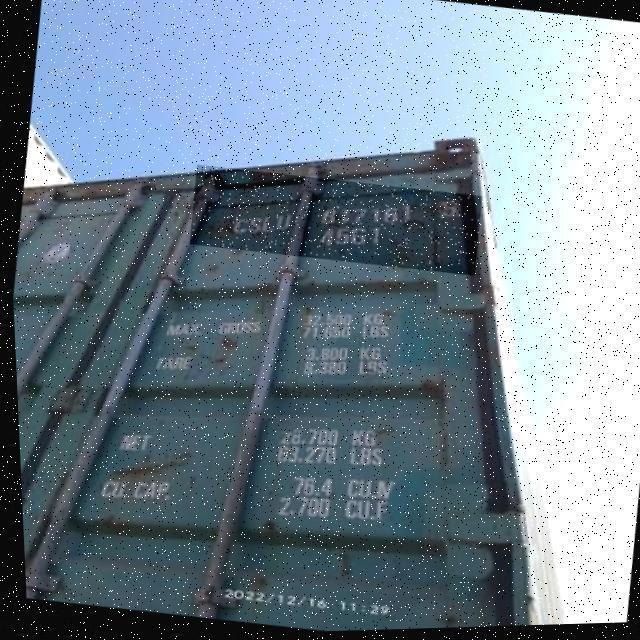container_number_h: (185, 159, 483, 285)
